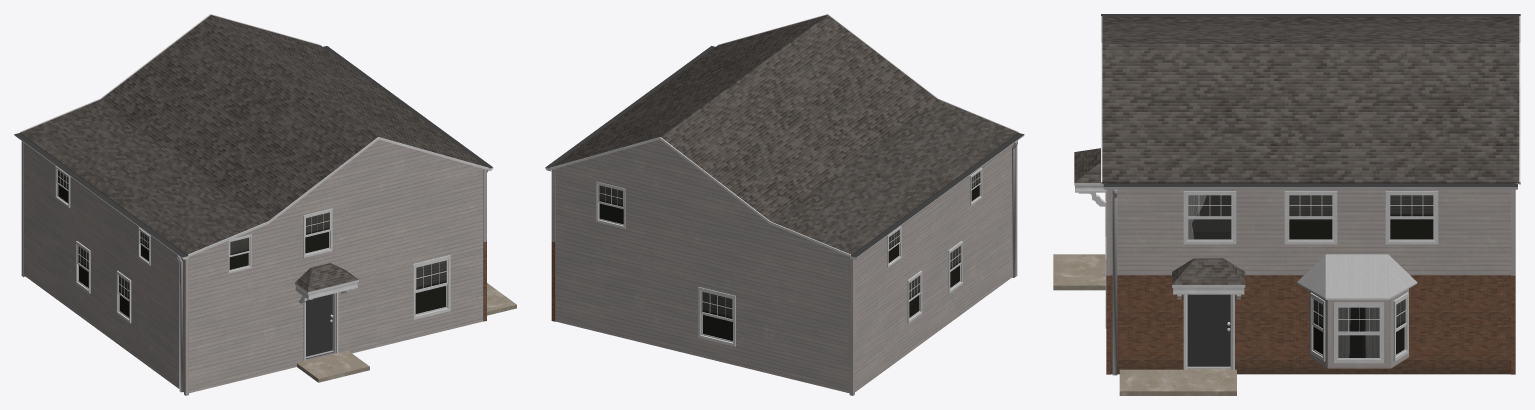
Rendered from home-1.glb.
The picture shows the model from 3 angles, left to right: view 1: azimuth 30°, elevation 25°; view 2: azimuth 150°, elevation 25°; view 3: azimuth 270°, elevation 25°; orthographic projection. The views are drawn at different scales.
Parts seen in each view (by area): view 1: Home1_col_V3; view 2: Home1_col_V3; view 3: Home1_col_V3.
Boxes of the visible parts, x1,y1,x2,y2 form: Home1_col_V3: [14, 14, 516, 395]; Home1_col_V3: [545, 14, 1024, 395]; Home1_col_V3: [1053, 14, 1520, 395].
Size of the model in its own units: 11.21 by 6.69 by 10.65.
1 material, 1 textured.
